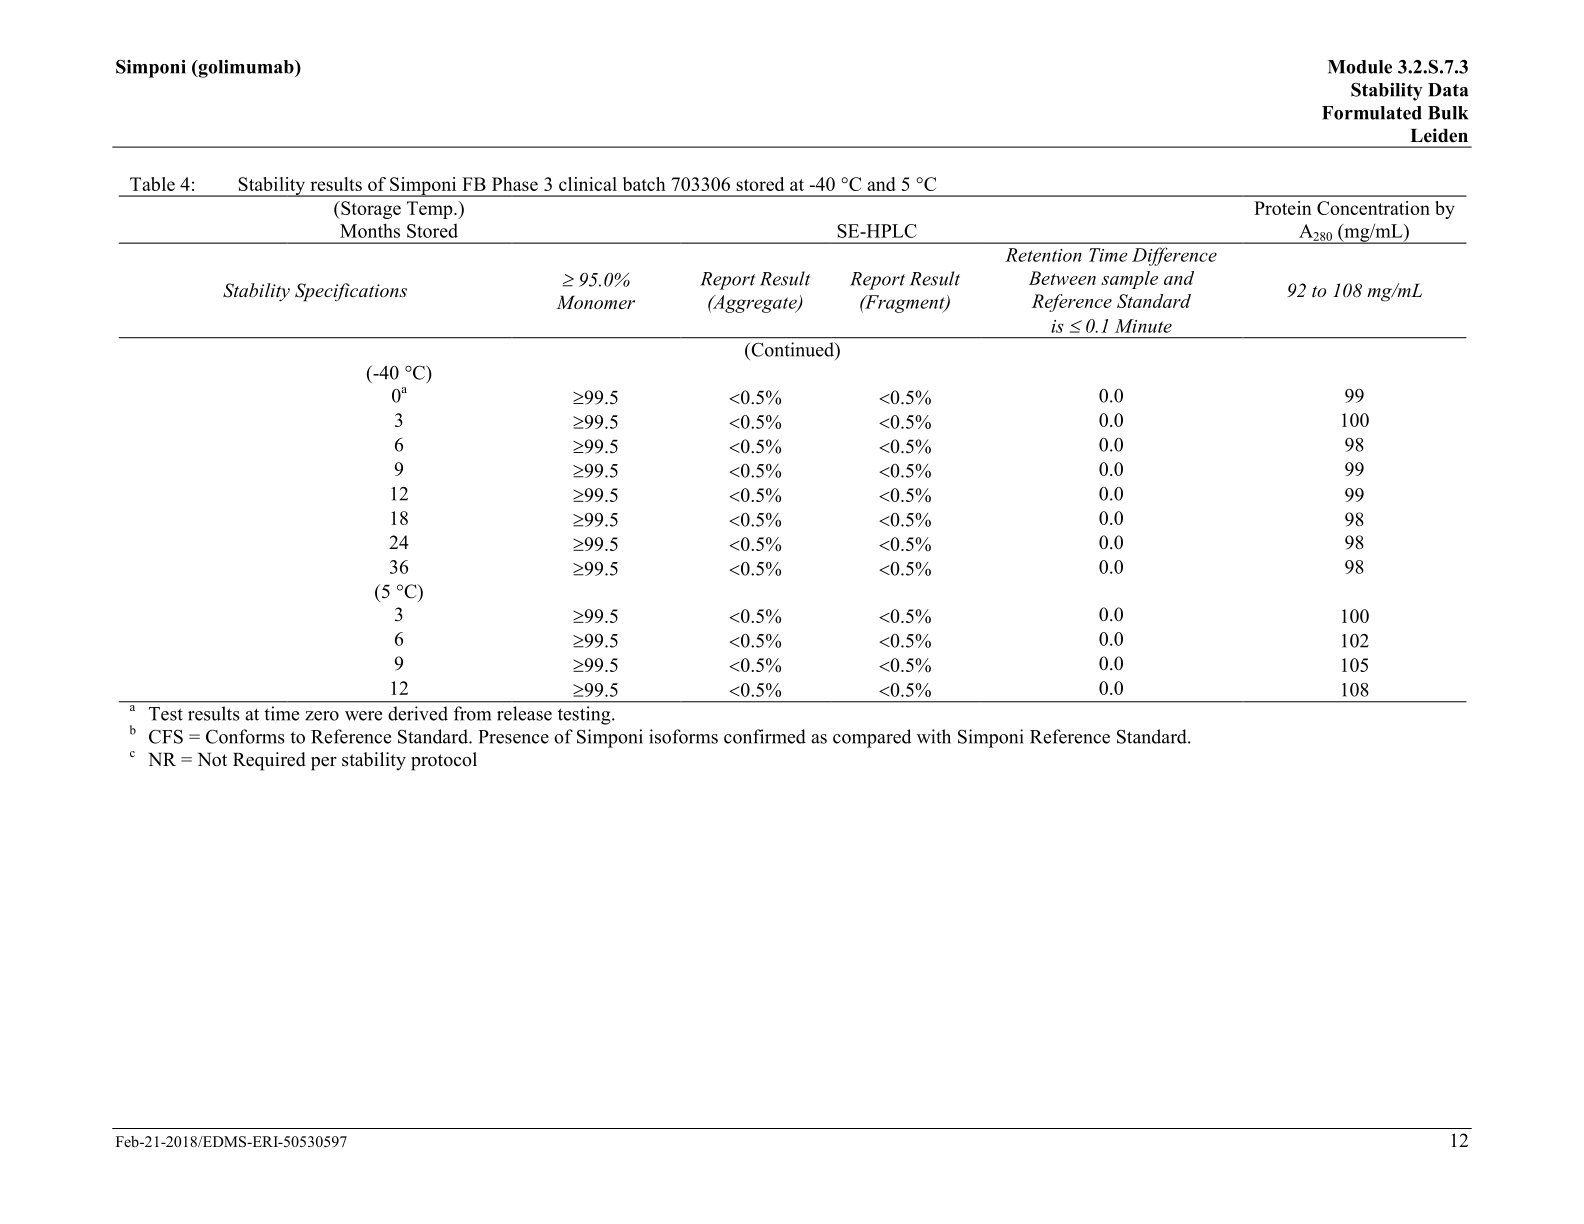partial_lined_merged_cells: (118, 194, 1471, 705)
